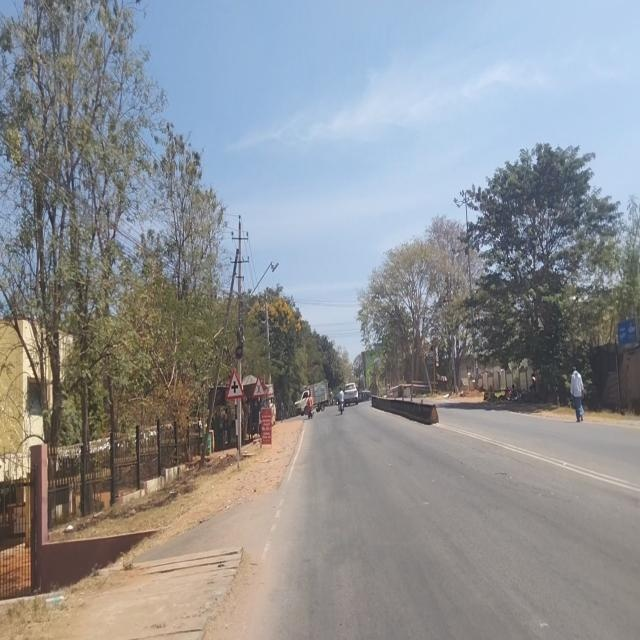bien_nguy_hiem: (226, 368, 245, 399), (252, 375, 265, 397)
